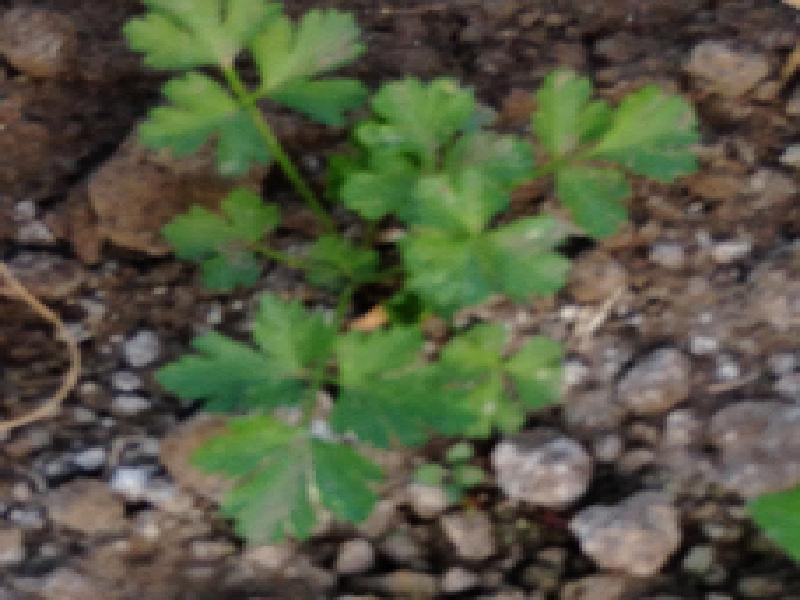radish: (0, 75, 737, 499)
